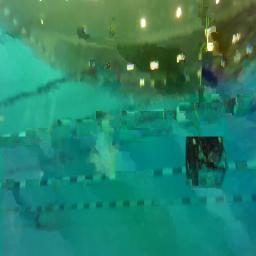Full: (185, 136, 226, 188)
